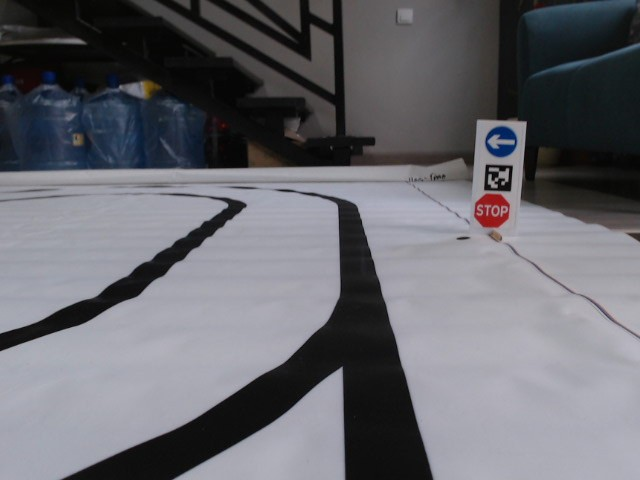Stop: (474, 194, 509, 227)
